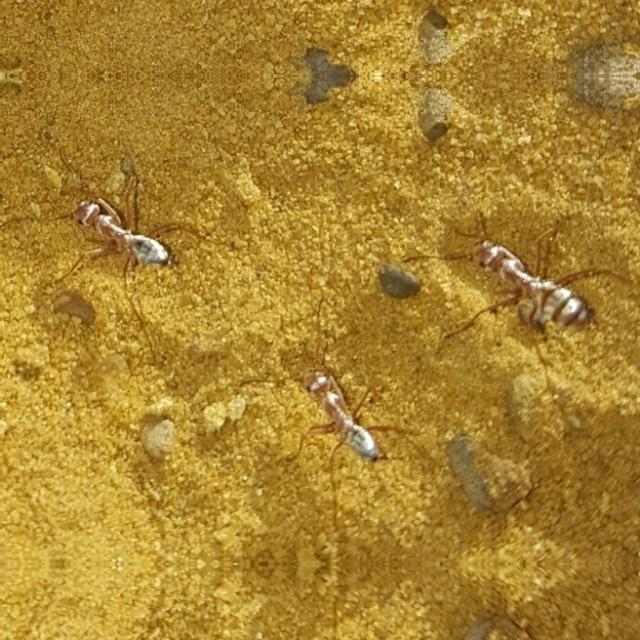Cataglyphis: (445, 216, 621, 350), (272, 346, 412, 474), (54, 175, 196, 281)
